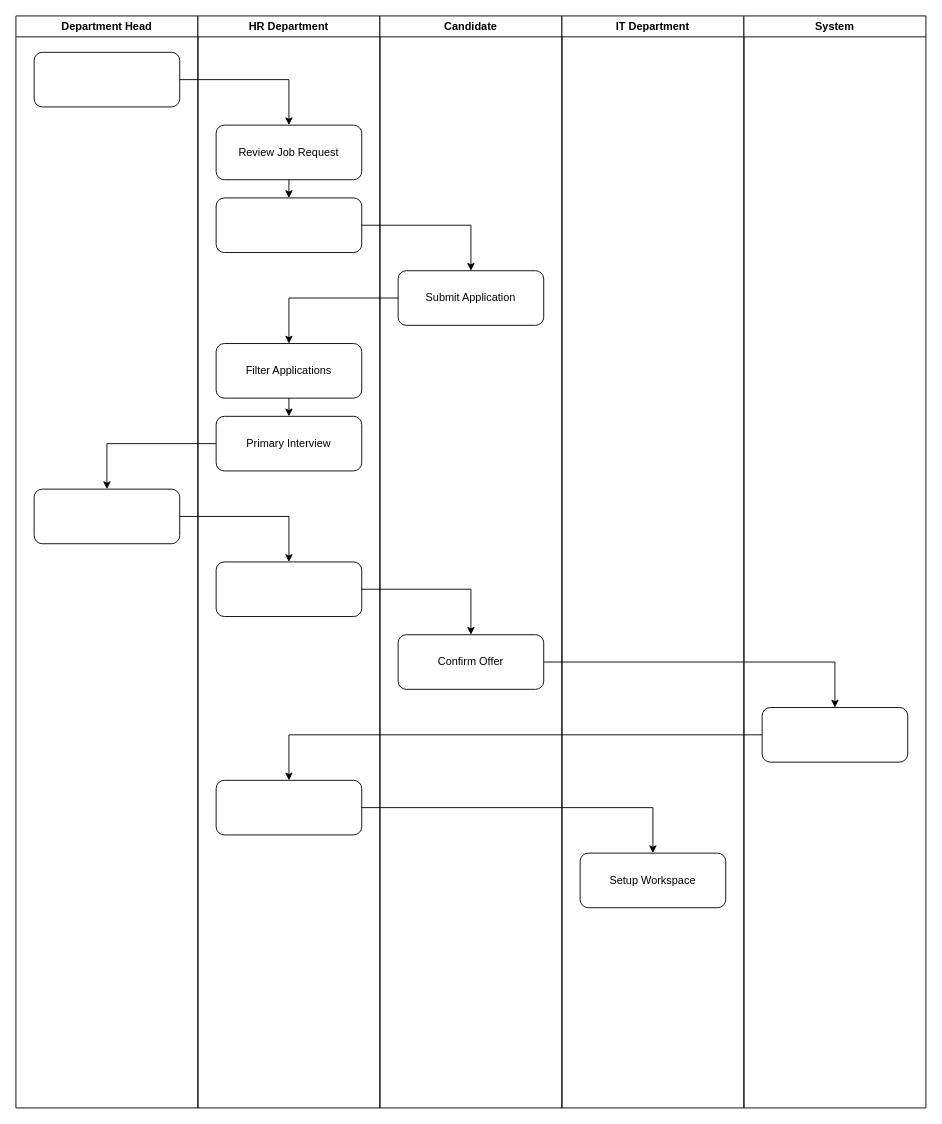
Some shapes in this 942 by 1124 pixel diagram are drawn without their labels. The box of each missing label's shape, as (x1, y1, x2, y2) in pixels:
Add Employee to Database: (761, 707, 908, 762)
Create Job Request: (33, 51, 180, 107)
Notify IT Department: (215, 779, 362, 835)
Offer Letter: (215, 561, 362, 617)
Publish Job Posting: (215, 197, 362, 253)
Technical Interview: (33, 488, 180, 544)
